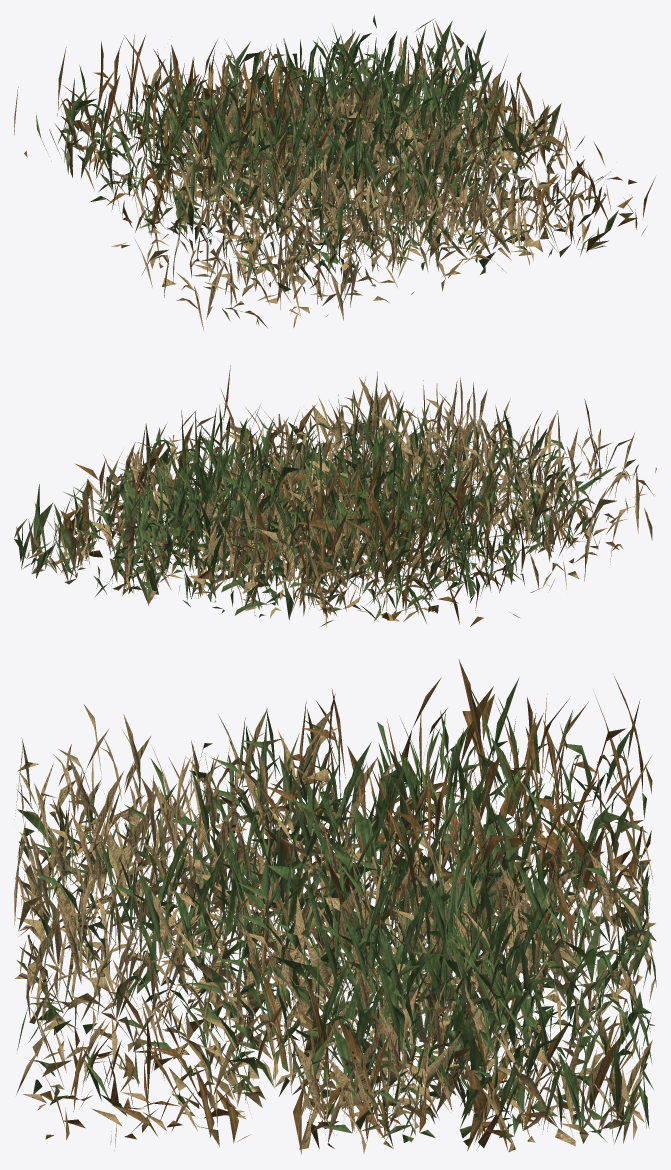
The picture shows the model from 3 angles, top to bottom: view 1: azimuth 30°, elevation 25°; view 2: azimuth 150°, elevation 25°; view 3: azimuth 270°, elevation 25°; orthographic projection. The views are drawn at different scales.
Visible parts, largest first — view 1: Grass_Basic-dry_A_spring-summer.003; view 2: Grass_Basic-dry_A_spring-summer.003; view 3: Grass_Basic-dry_A_spring-summer.003.
Boxes of the visible parts, x1,y1,x2,y2 form: Grass_Basic-dry_A_spring-summer.003: [14, 15, 655, 330]; Grass_Basic-dry_A_spring-summer.003: [14, 365, 656, 627]; Grass_Basic-dry_A_spring-summer.003: [14, 659, 656, 1154].
Bounding box in the file's own units: 1.39 × 0.4593 × 1.18.
Materials: 3 (3 with a texture image).
